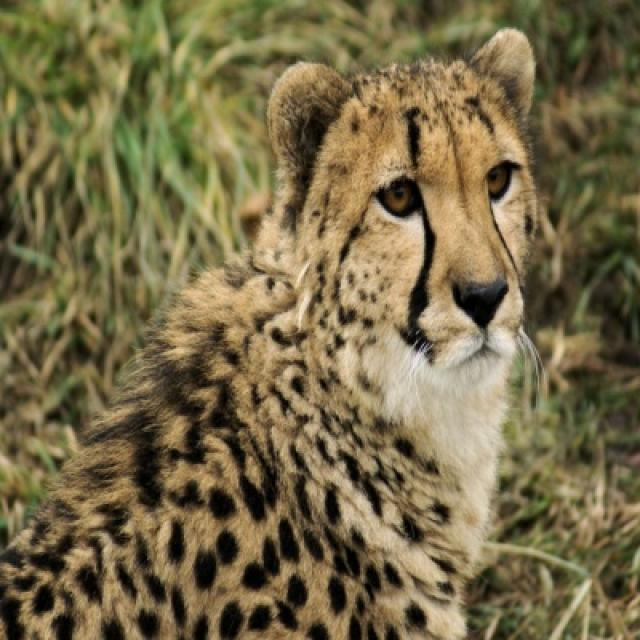Cheetah: (0, 29, 546, 638)
